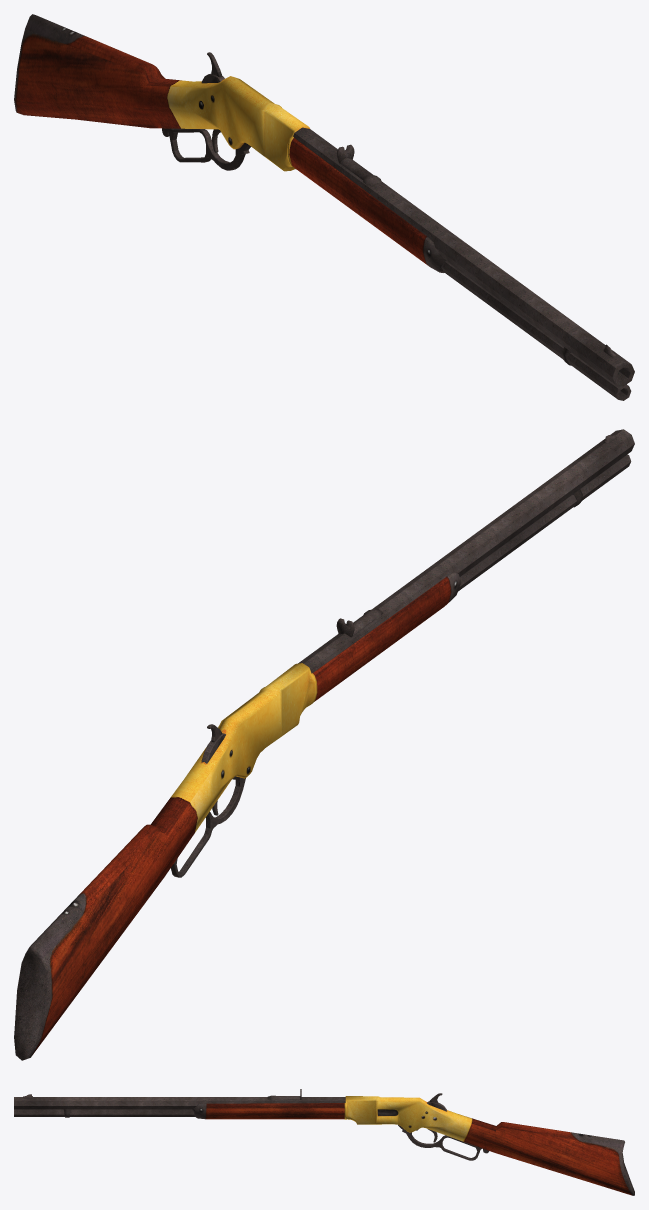
File: Winchester_Rifle.FBX
3 views of the same model, one above another, from view 1: azimuth 30°, elevation 25°; view 2: azimuth 150°, elevation 25°; view 3: azimuth 270°, elevation 25° (orthographic). The views are drawn at different scales.
Parts seen in each view (by area): view 1: Rifle, Rifle_Lever; view 2: Rifle, Rifle_Lever; view 3: Rifle, Rifle_Lever.
Part boxes in pixels (x1=…): Rifle: x1=14, y1=14, x2=634, y2=400; Rifle_Lever: x1=166, y1=128, x2=250, y2=170; Rifle: x1=14, y1=429, x2=634, y2=1060; Rifle_Lever: x1=171, y1=776, x2=245, y2=877; Rifle: x1=14, y1=1089, x2=634, y2=1195; Rifle_Lever: x1=398, y1=1125, x2=482, y2=1160.
Bounding box in the file's own units: 0.0443 × 0.2544 × 1.36.
Materials: 1 (1 with a texture image).
